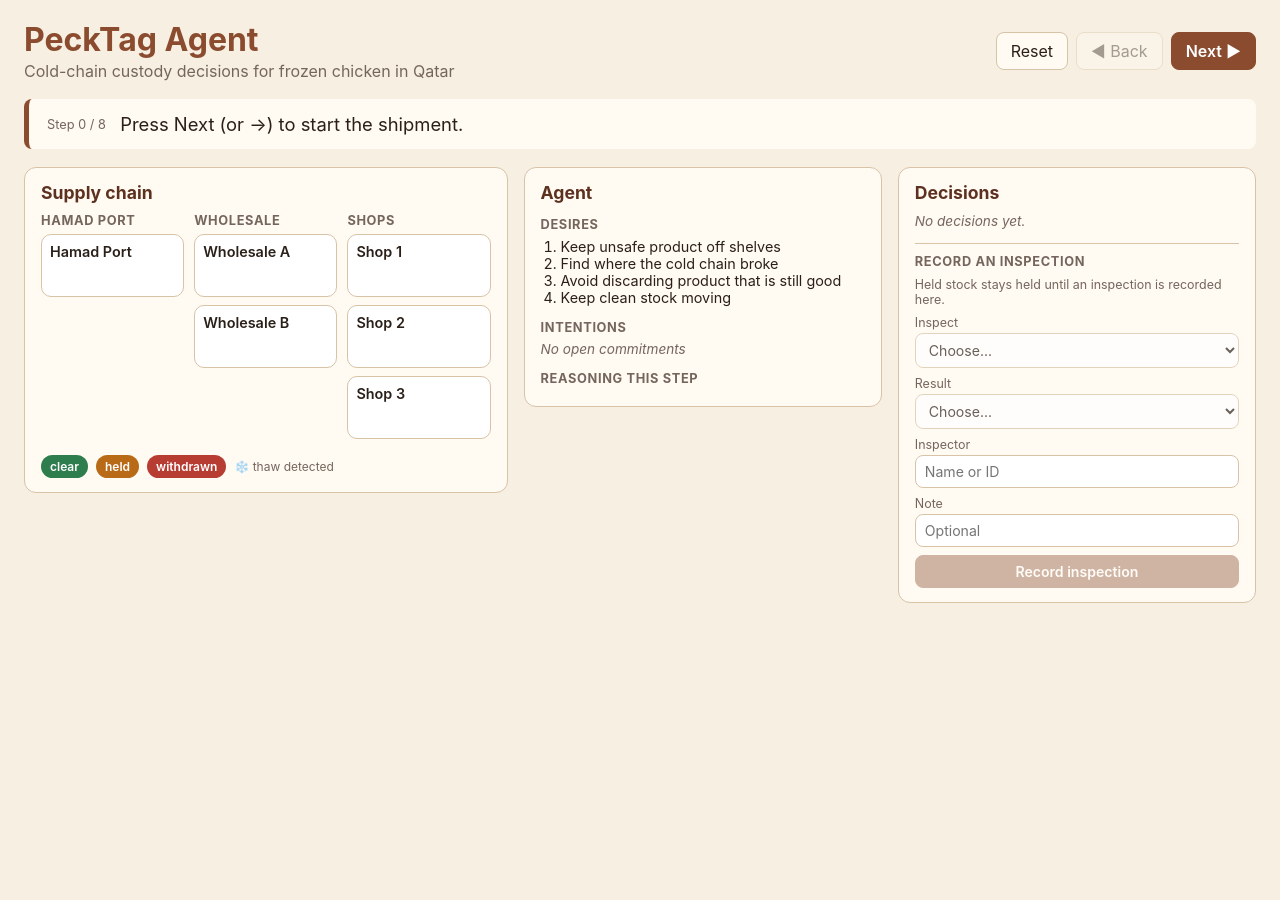
Test: admin route still steps through the demo and shows the agent holding clean stock
The image size is (1280, 900).
Step 1. Click the button "Next ▶" → (1213, 50), box [1171, 32, 1256, 70]
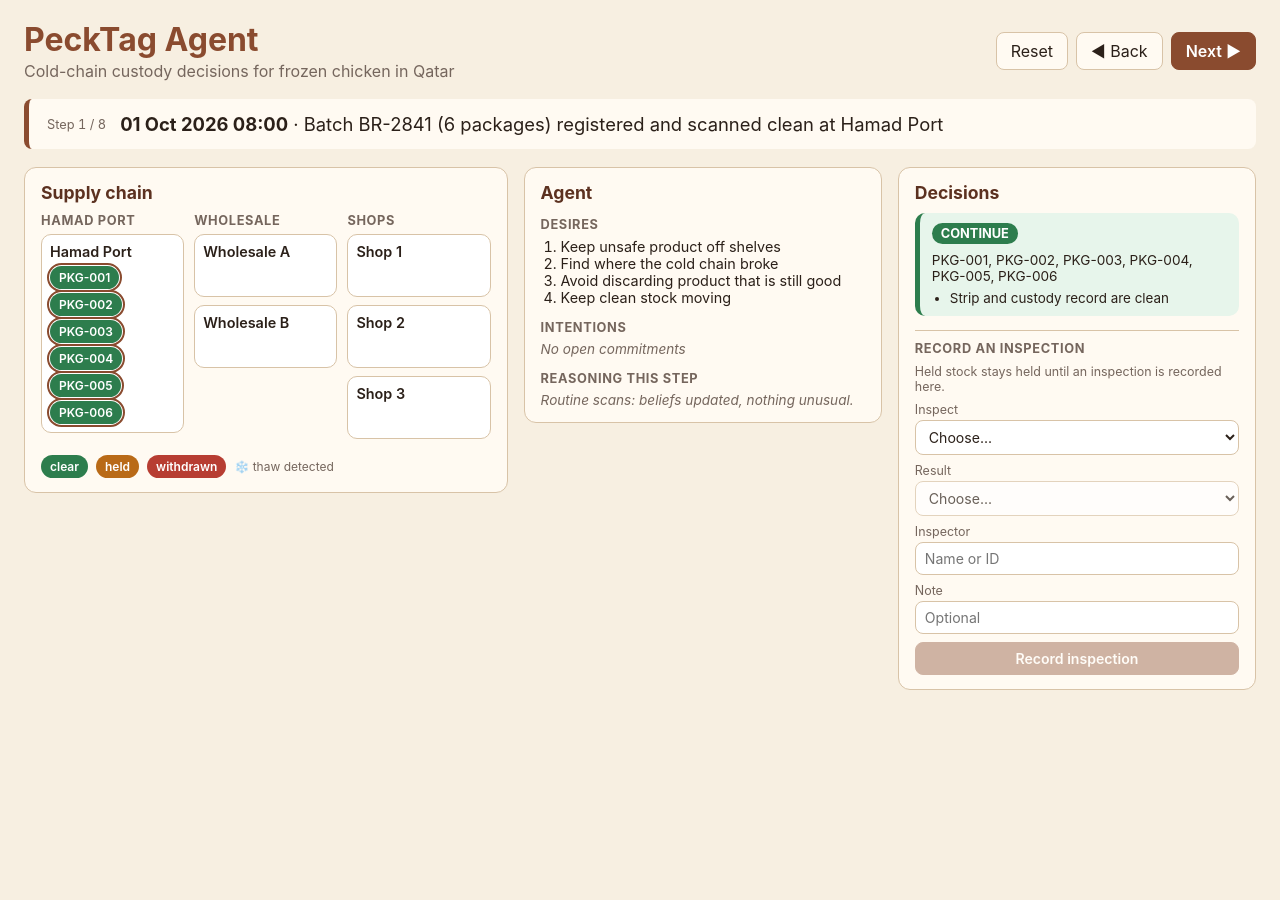
Step 2. Click the button "Next ▶" → (1213, 50), box [1171, 32, 1256, 70]
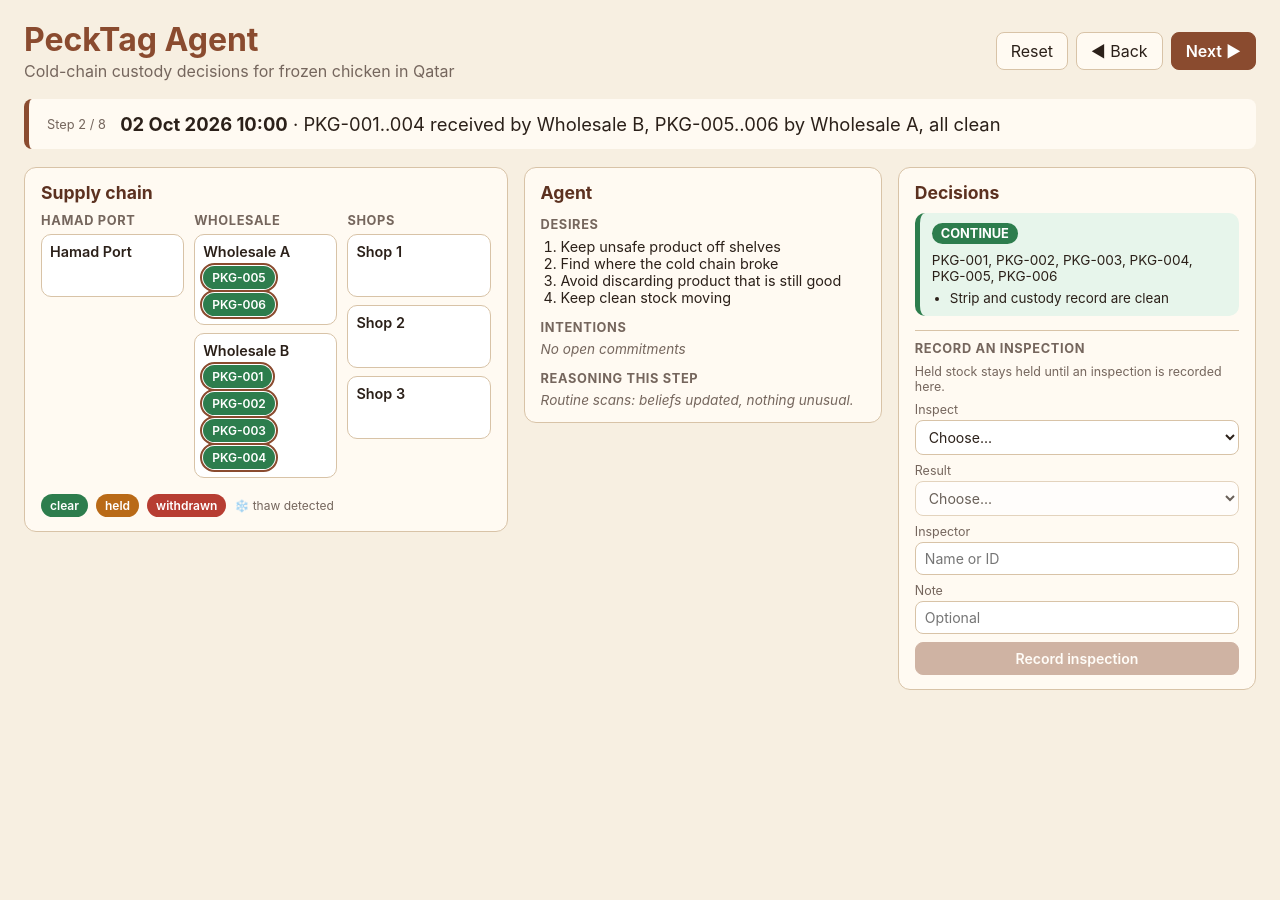
Step 3. Click the button "Next ▶" → (1213, 50), box [1171, 32, 1256, 70]
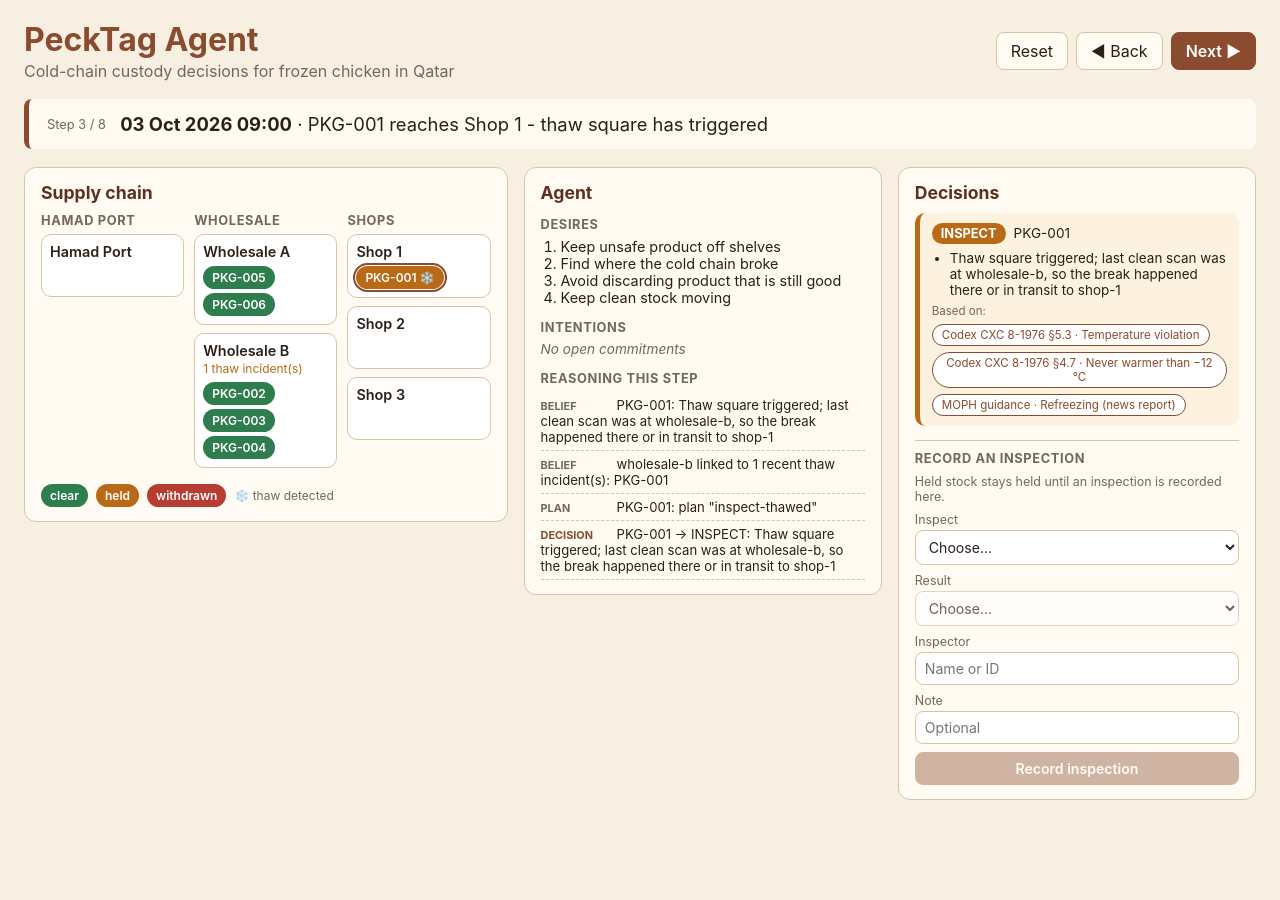
Step 4. Click the button "Next ▶" → (1213, 50), box [1171, 32, 1256, 70]
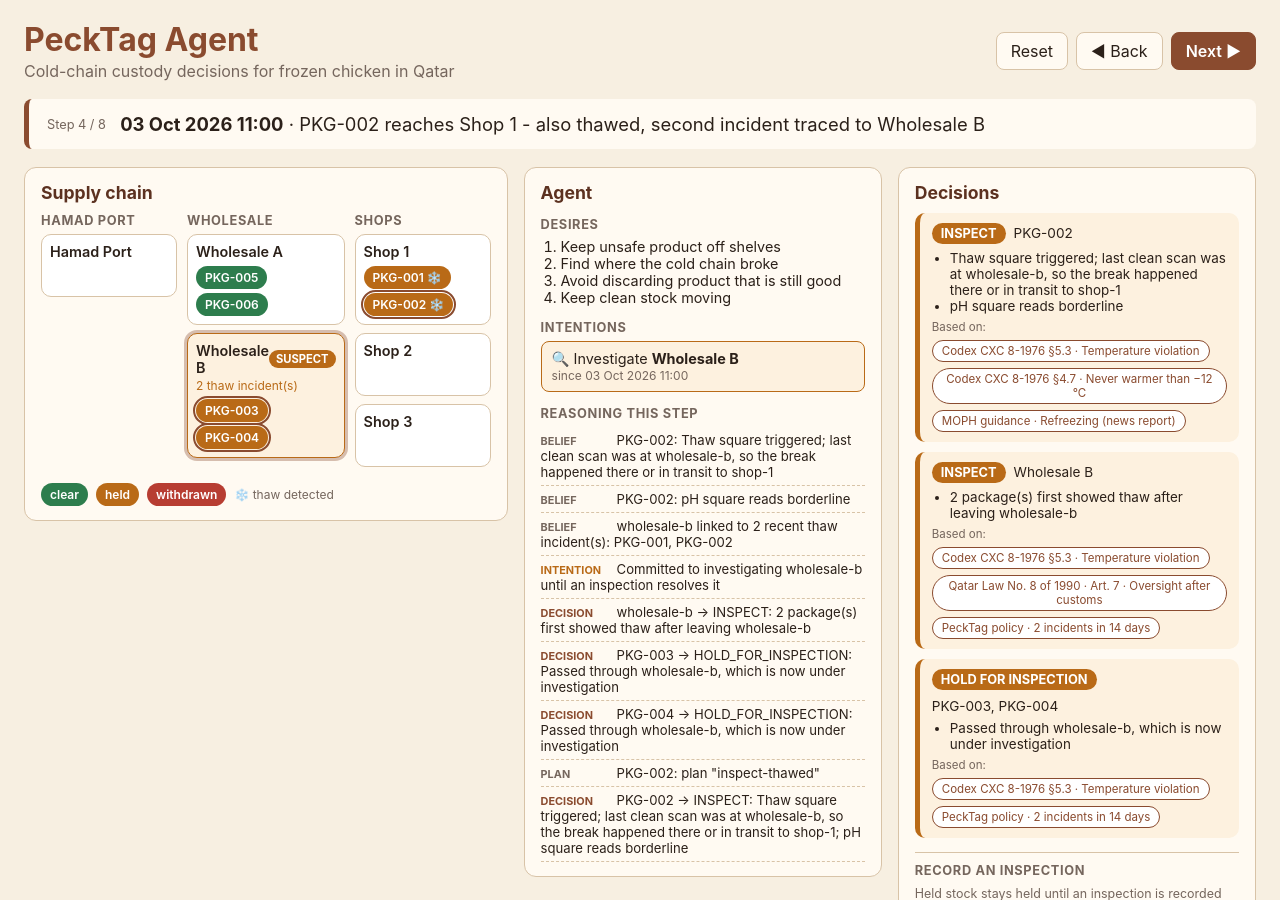
Step 5. Click the button "Next ▶" → (1213, 50), box [1171, 32, 1256, 70]
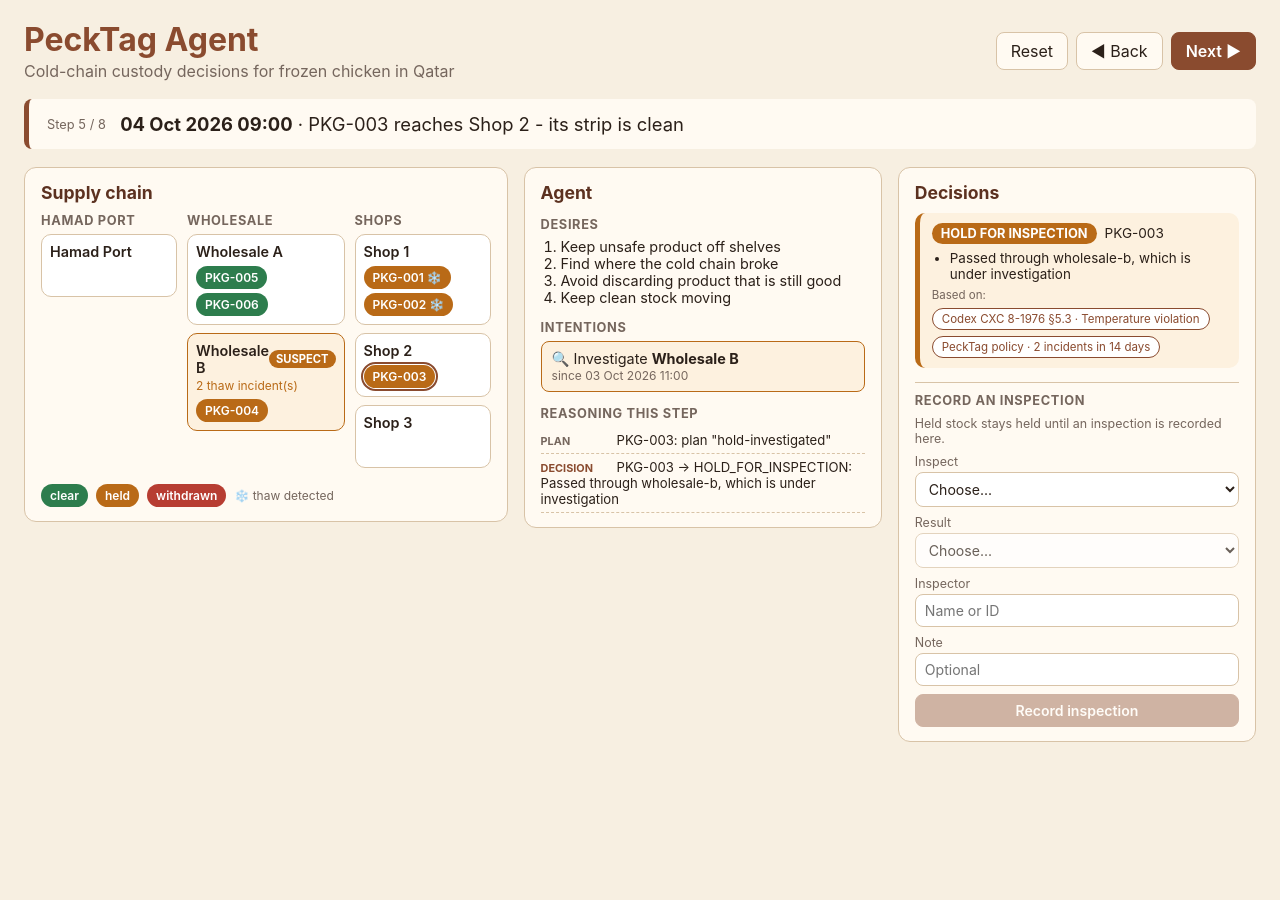
Check: the text "🔍 Investigate Wholesale B since 03 Oct 2026 11:00" is shown, box [541, 341, 865, 392]
Check: the text "PKG-003 reaches Shop 2" is shown, box [308, 113, 684, 135]
Check: the text "HOLD FOR INSPECTION" is shown, box [932, 223, 1097, 244]
